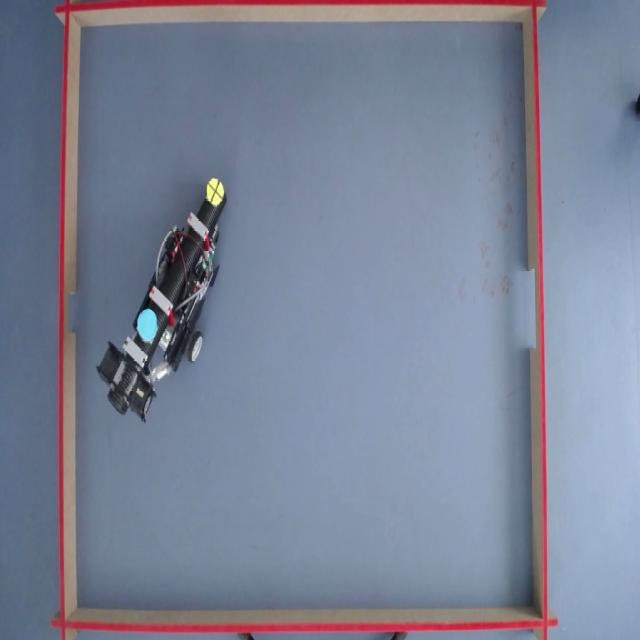robot: (94, 173, 234, 426)
robot-front: (206, 176, 226, 208)
robot-rear: (136, 309, 157, 341)
